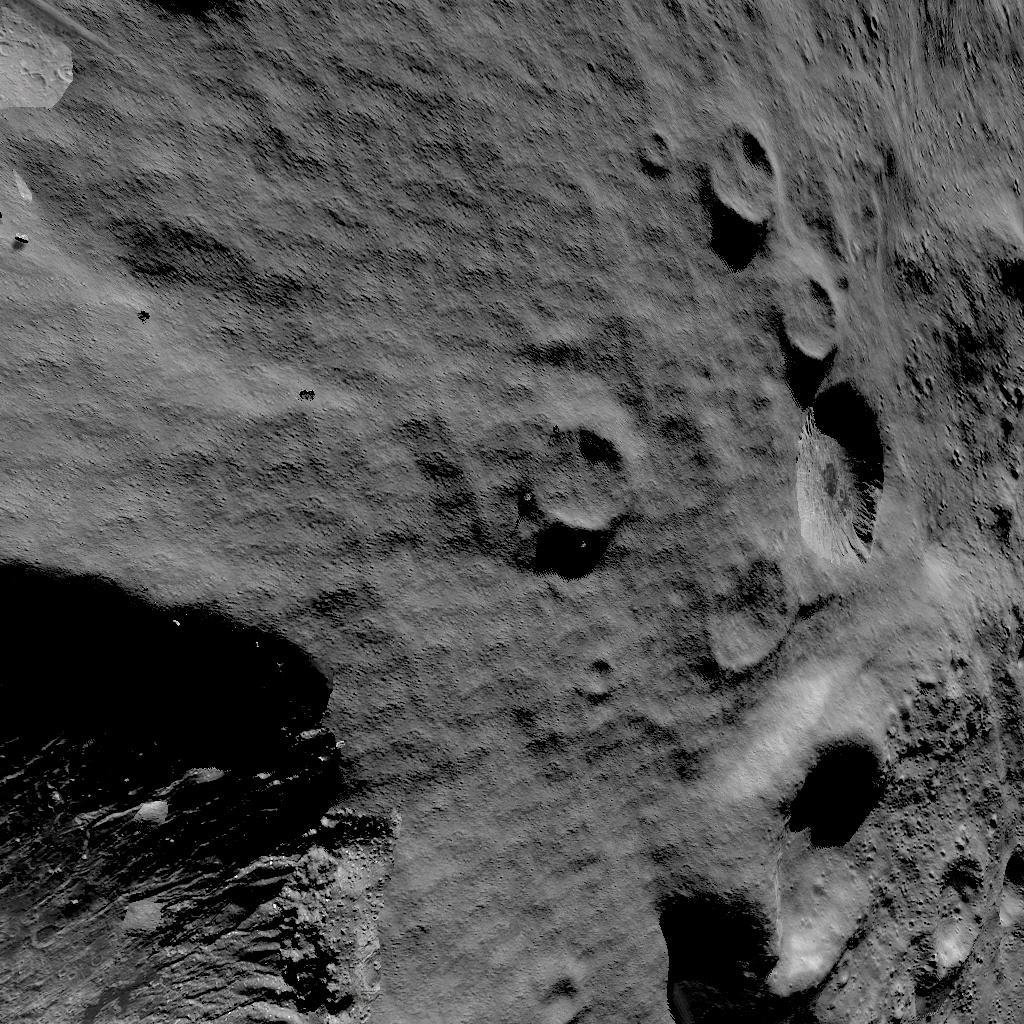Boulders: (0, 0, 79, 132)
Crater: (0, 556, 359, 1024), (663, 718, 901, 1022), (709, 378, 898, 663), (522, 416, 654, 546), (926, 837, 1024, 993), (696, 122, 789, 235), (770, 277, 844, 361), (523, 960, 594, 1022), (566, 650, 620, 703)
Plan surface: (93, 0, 453, 537)
